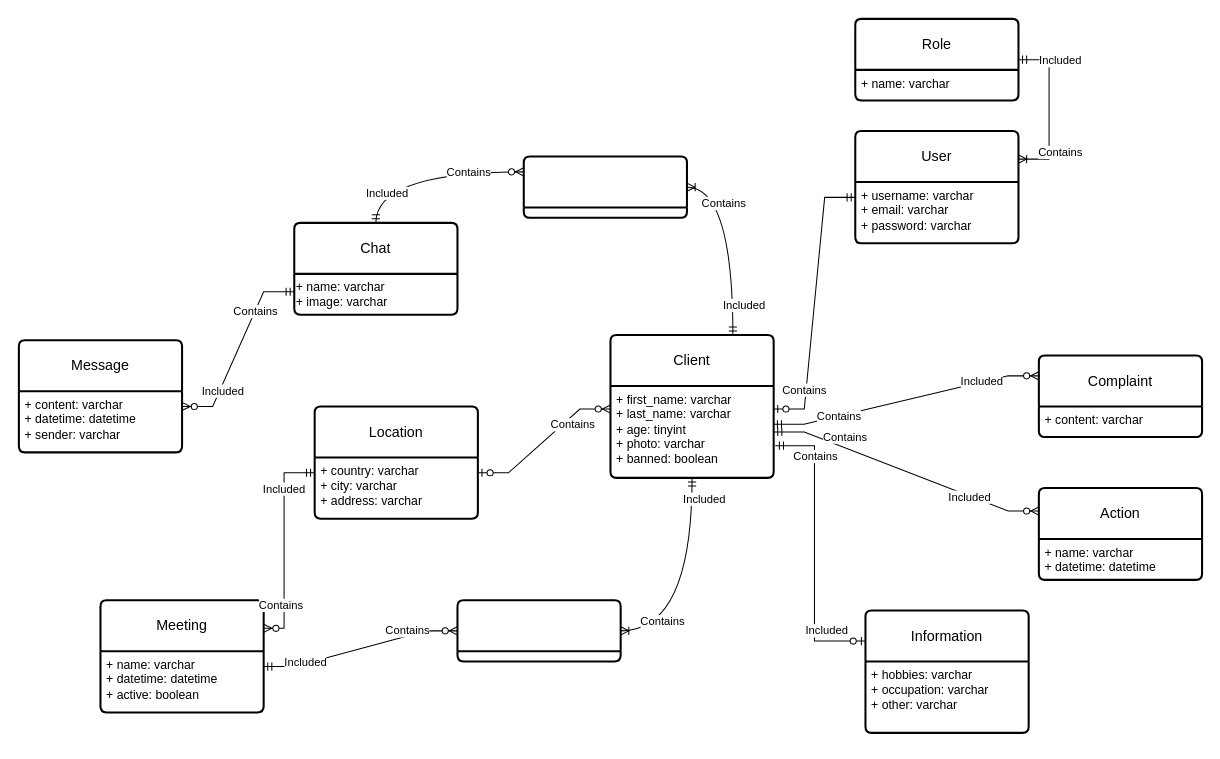
The diagram is 1220 pixels wide and 759 high, and some of its shapes have lost their labels. The centre of each missing label's shape, as x and y in pixels:
ClientChat (Junction Table): the point at 604,186
СlientMeeting (Junction table): the point at 538,630
